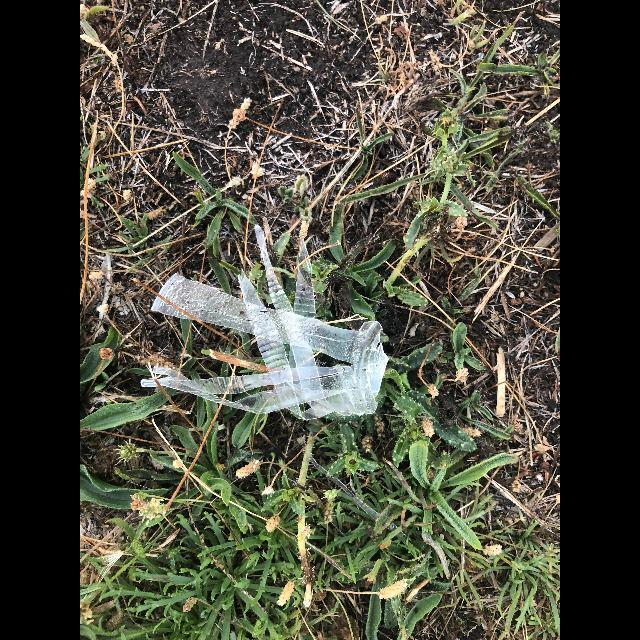Plastic: (142, 225, 388, 420)
